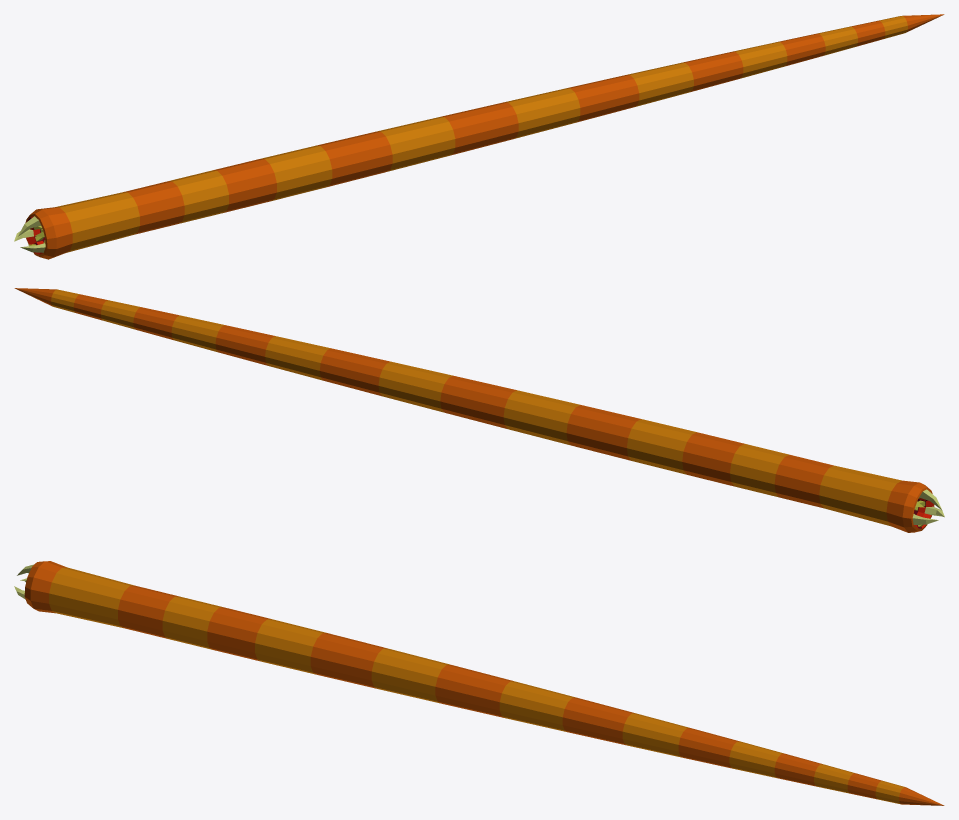
Rendered from ZandWorm.fbx.
The picture shows the model from 3 angles, top to bottom: view 1: azimuth 30°, elevation 25°; view 2: azimuth 150°, elevation 25°; view 3: azimuth 330°, elevation 25°; orthographic projection.
Visible parts, largest first — view 1: Cylinder; view 2: Cylinder; view 3: Cylinder.
Part boxes in pixels (x1,y1,x2,y2): Cylinder: (14, 14, 944, 259); Cylinder: (14, 288, 944, 532); Cylinder: (14, 561, 944, 805).
Bounding box in the file's own units: 1015 × 49.03 × 48.68.
